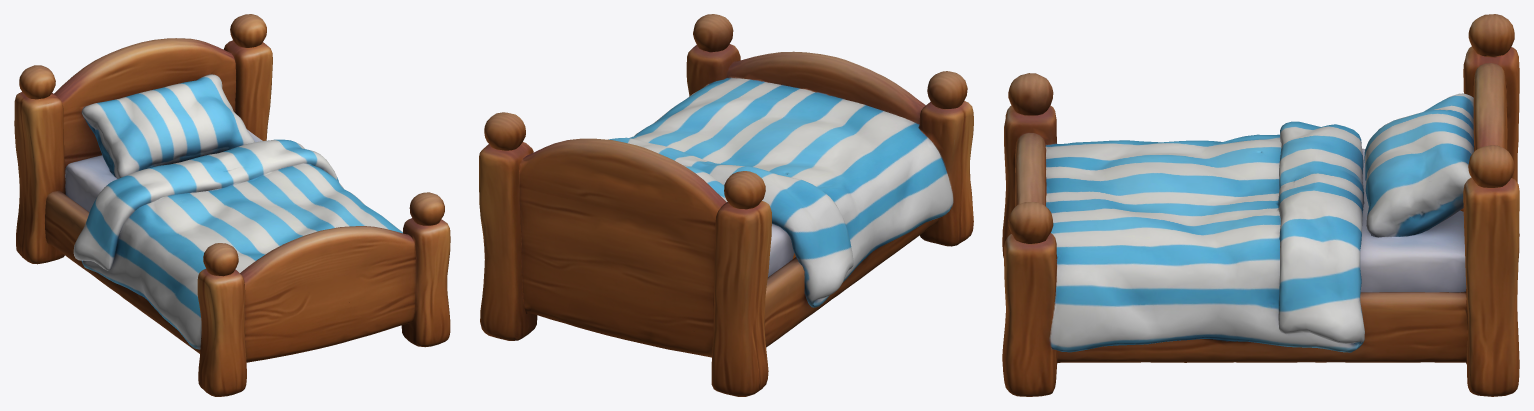
Rendered from bett.glb.
3 renders of one model, left to right at view 1: azimuth 30°, elevation 25°; view 2: azimuth 150°, elevation 25°; view 3: azimuth 270°, elevation 25°, orthographic. The views are drawn at different scales.
Parts seen in each view (by area): view 1: world; view 2: world; view 3: world.
Part boxes in pixels (x1,y1,x2,y2): world: (14, 14, 450, 396); world: (479, 14, 973, 396); world: (1002, 14, 1519, 396).
Size of the model in its own units: 0.7328 by 0.5223 by 1.
Materials: 1 (1 with a texture image).
